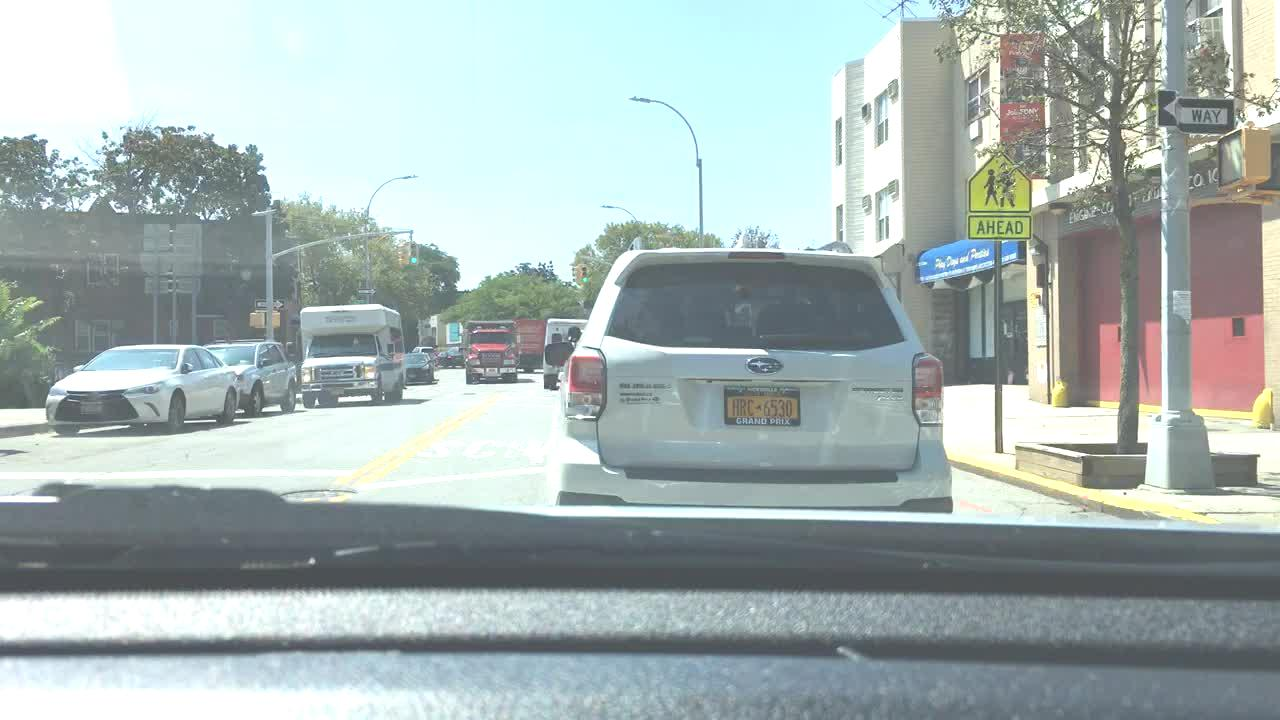subaru: (739, 349, 794, 385)
